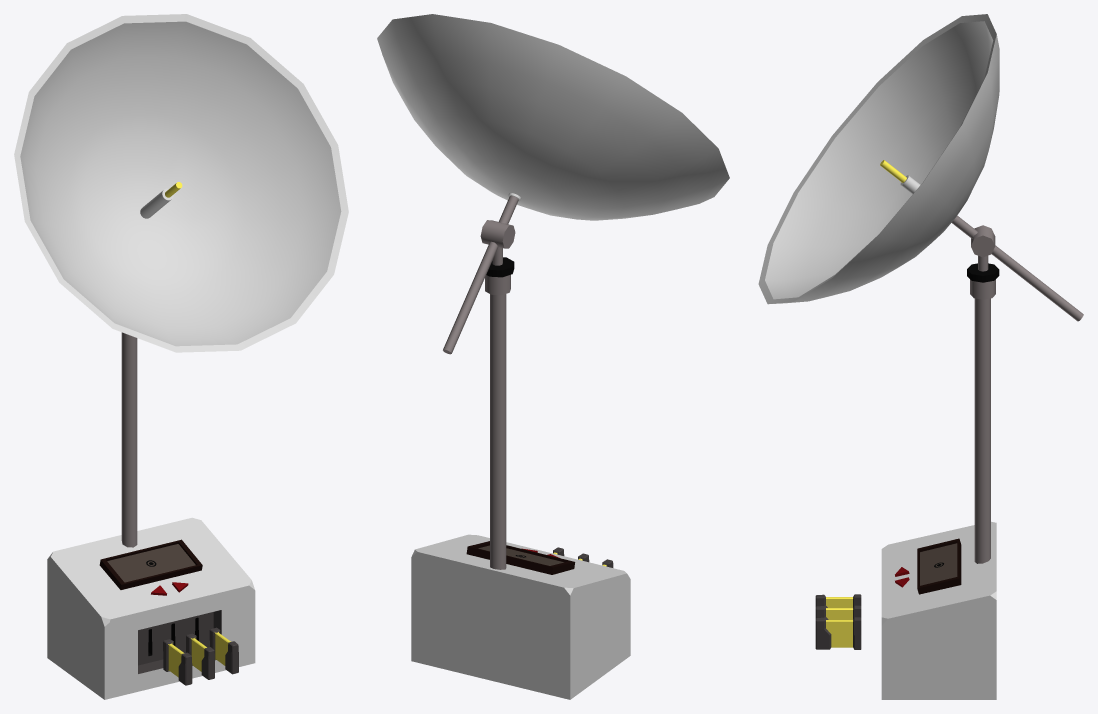
The model's file is Antenna.fbx.
3 renders of one model, left to right at view 1: azimuth 30°, elevation 25°; view 2: azimuth 150°, elevation 25°; view 3: azimuth 270°, elevation 25°, orthographic. The views are drawn at different scales.
Parts seen in each view (by area): view 1: Antenna, Base, Palo, Schermino, Cube, Plane, Plane.002, Plane.001; view 2: Antenna, Base, Palo, Antenna.001, Schermino, Cylinder; view 3: Antenna, Base, Palo, Schermino, Plane.002, Antenna.001, Cylinder, Plane.001, Plane.
Boxes of the visible parts, x1=… form: Antenna: x1=14, y1=14, x2=348, y2=352; Base: x1=47, y1=517, x2=255, y2=699; Palo: x1=121, y1=332, x2=137, y2=547; Schermino: x1=99, y1=539, x2=202, y2=589; Cube: x1=138, y1=612, x2=213, y2=665; Plane: x1=163, y1=639, x2=192, y2=685; Plane.002: x1=209, y1=627, x2=238, y2=674; Plane.001: x1=186, y1=633, x2=214, y2=679; Antenna: x1=377, y1=14, x2=729, y2=220; Base: x1=411, y1=534, x2=630, y2=699; Palo: x1=490, y1=294, x2=506, y2=569; Antenna.001: x1=443, y1=195, x2=518, y2=354; Schermino: x1=466, y1=541, x2=575, y2=574; Cylinder: x1=480, y1=220, x2=515, y2=248; Antenna: x1=758, y1=14, x2=999, y2=304; Base: x1=881, y1=521, x2=996, y2=699; Palo: x1=974, y1=298, x2=990, y2=563; Schermino: x1=917, y1=538, x2=961, y2=594; Plane.002: x1=815, y1=617, x2=861, y2=649; Antenna.001: x1=951, y1=215, x2=1083, y2=321; Cylinder: x1=971, y1=225, x2=995, y2=257; Plane.001: x1=815, y1=605, x2=861, y2=619; Plane: x1=815, y1=594, x2=861, y2=607.
Bounding box in the file's own units: 186 × 354 × 166.
